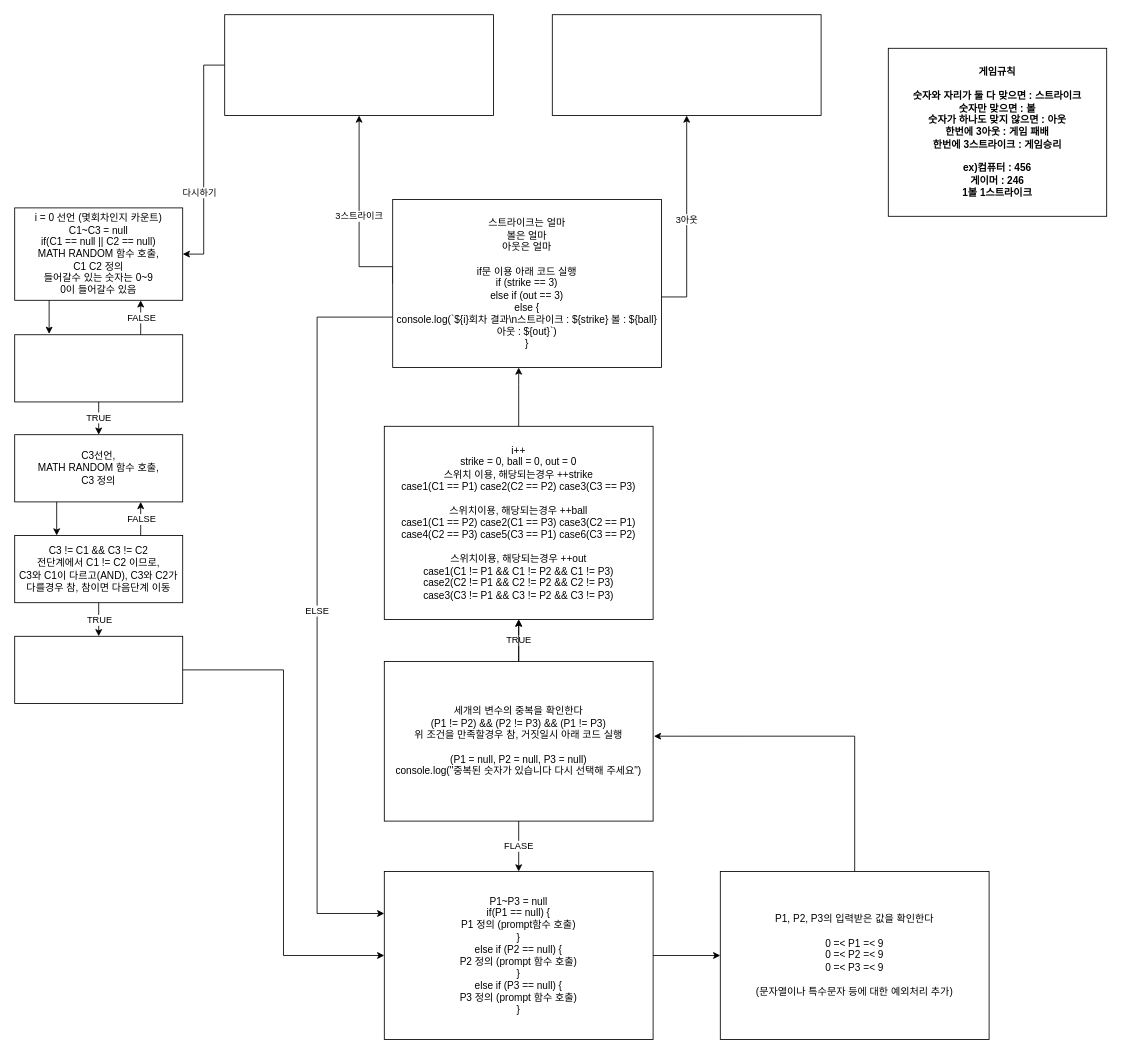
Image size: 1121x1054. Some labels were removed from this diagram. Each missing label, with the centre of its shape:
if (C1 != C2) 다르면 참, 참이면 다음단계 이동: point (98, 368)
컴퓨터 숫자(C1~C3) 셋팅완료 C1~C3 값은 플레이어가 알수 없음 console.log("컴퓨터 숫자 셋팅 완료"): point (98, 669)
컴퓨터 승리 플레이어 패배 console.log(`컴퓨터의 숫자는 ${C1}${C2} ${C3} 였습니다`): point (686, 65)
플레이어 승리 컴퓨터 패배 `${i}회차에 승리하였습니다`: point (359, 65)
